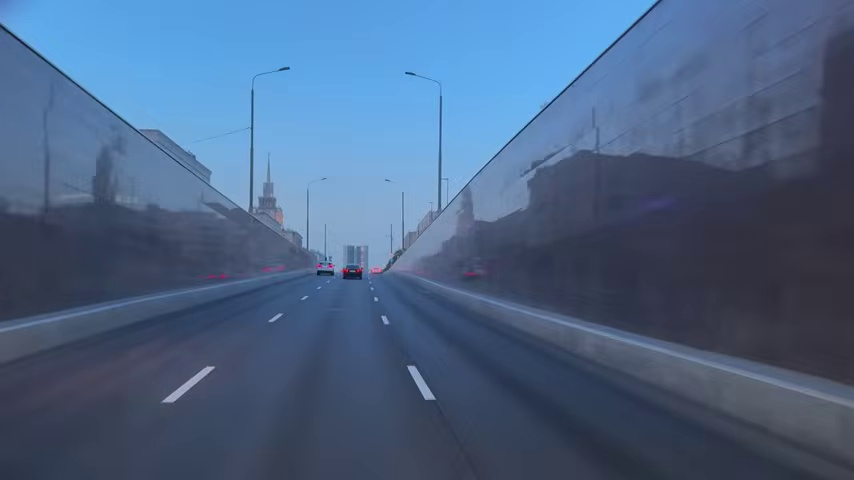apagada: (270, 59, 294, 82), (401, 66, 420, 84), (274, 60, 293, 77)
